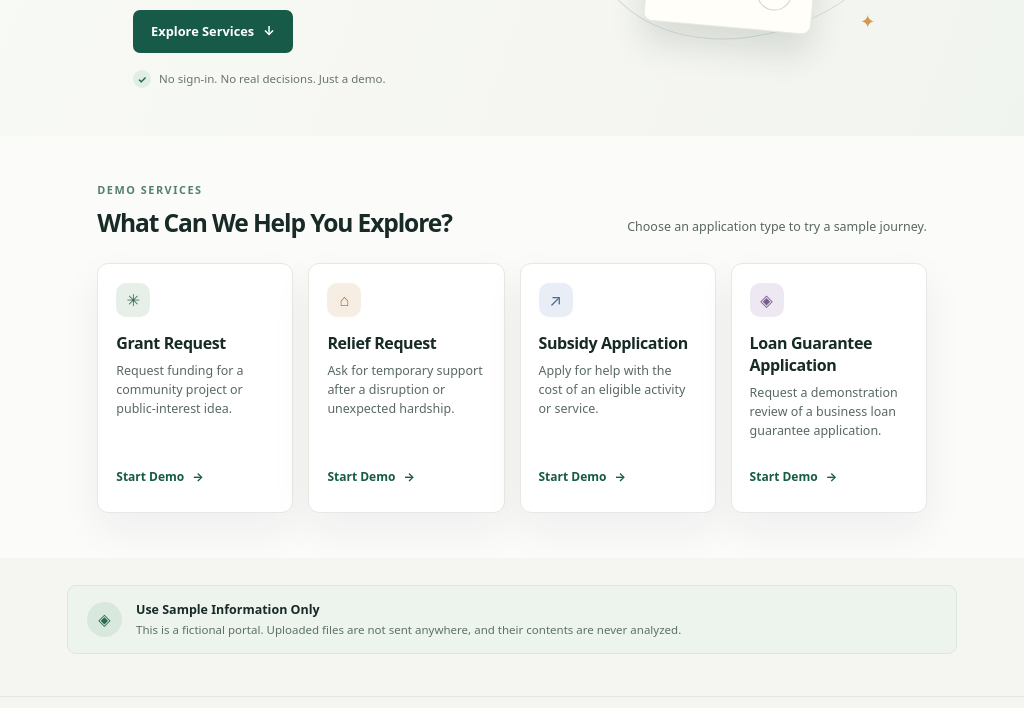
Test: application journey › confirms before discarding an unfinished form during navigation
(page scrolled)
Click the button "Start Demo →" below "Grant Request": (195, 477) [116, 459, 274, 495]
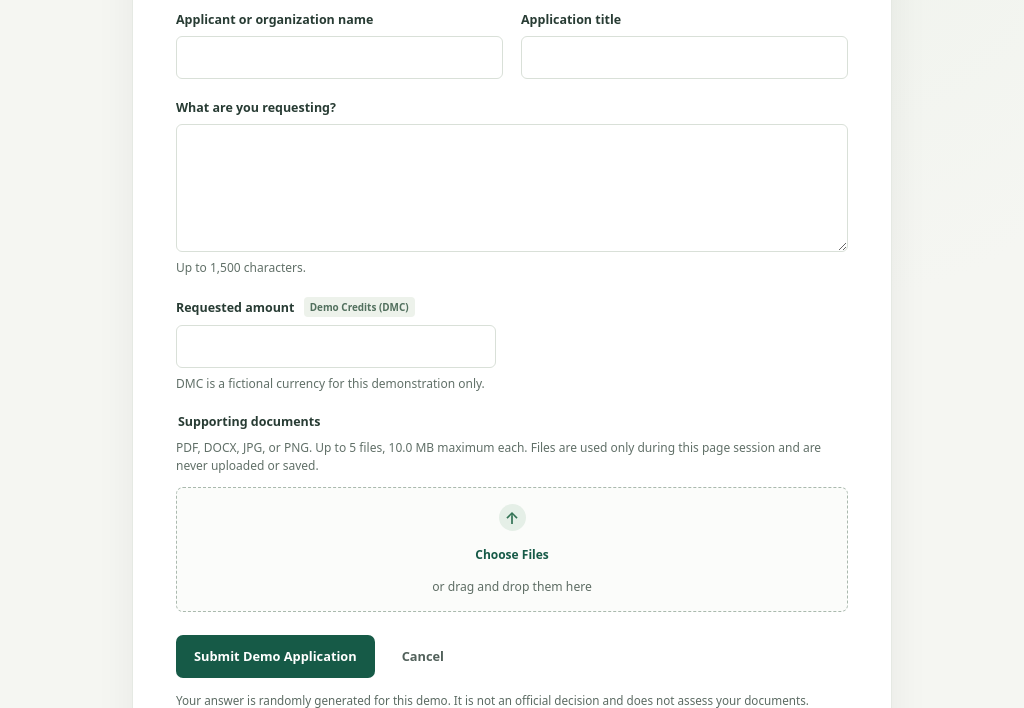
In the field labelled "Applicant or organization name": (340, 57) [176, 36, 503, 78], type "Sample Applicant"
(page scrolled)
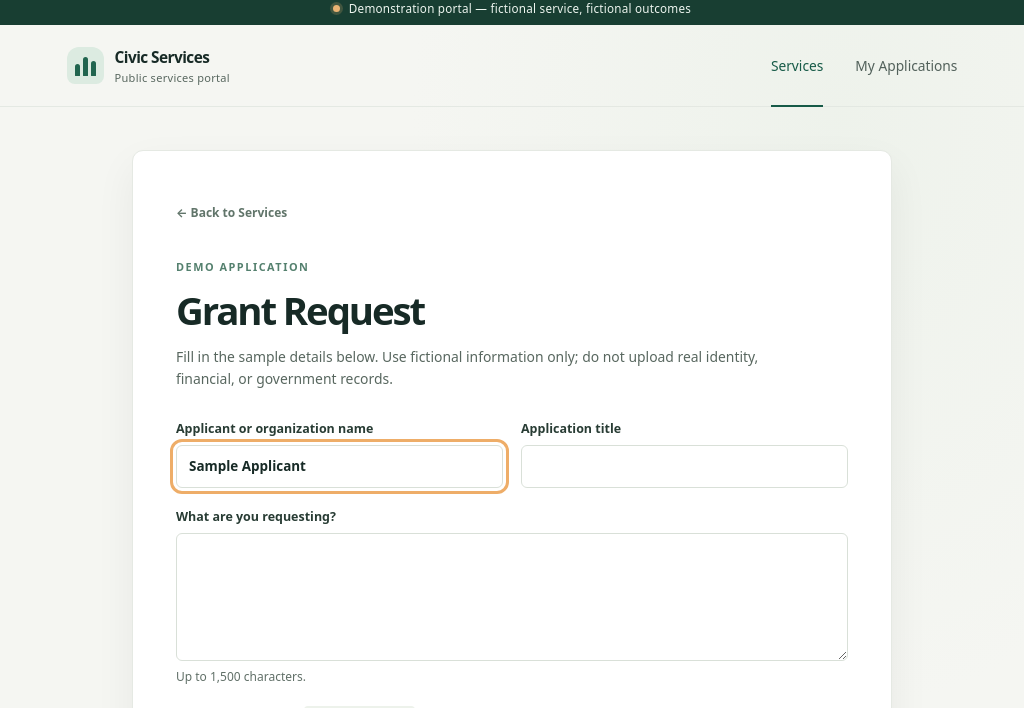
Click the button "My Applications": (906, 66) [855, 25, 958, 106]
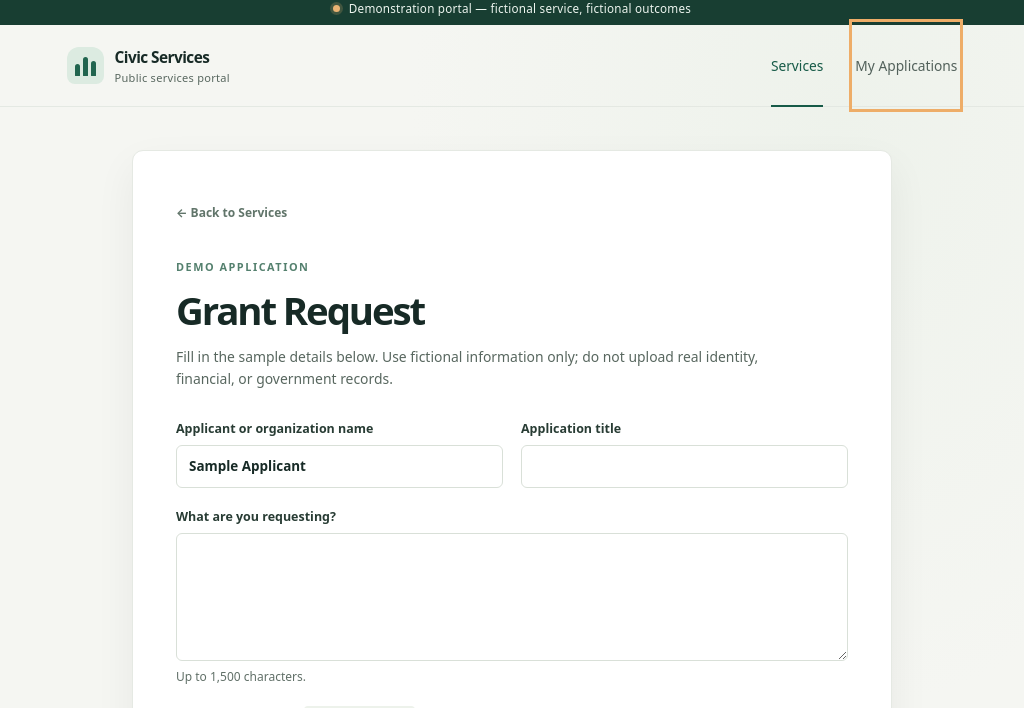
Check: the heading "Grant Request" is shown, box [176, 284, 424, 336]
Click the button "My Applications": (906, 66) [855, 25, 958, 106]
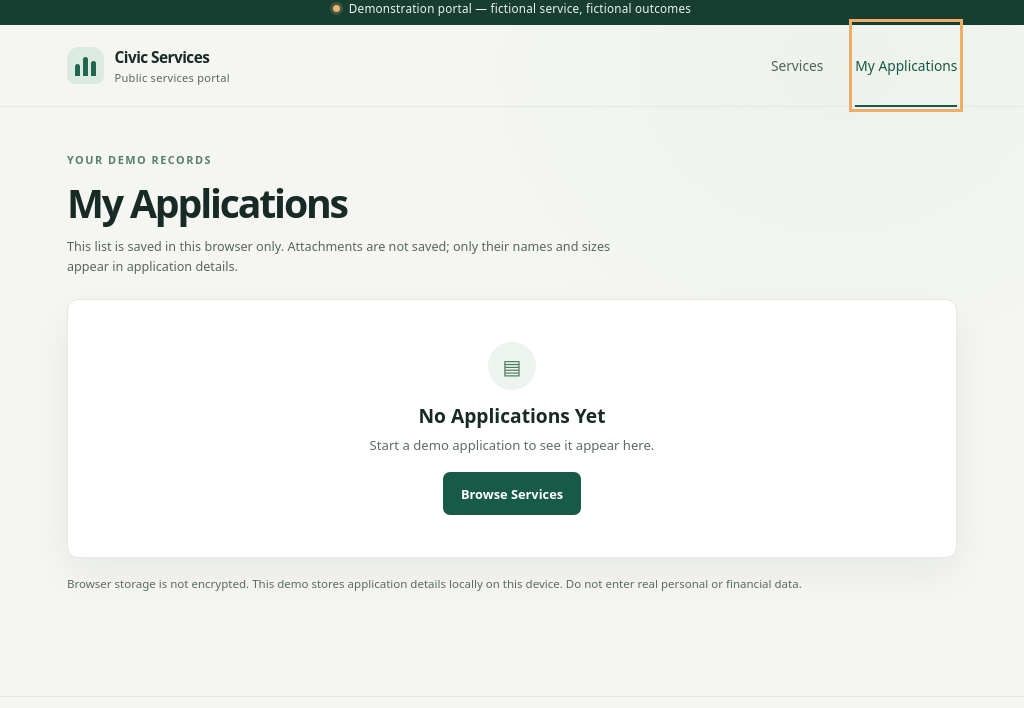
Check: the heading "My Applications" is shown, box [67, 176, 347, 229]
